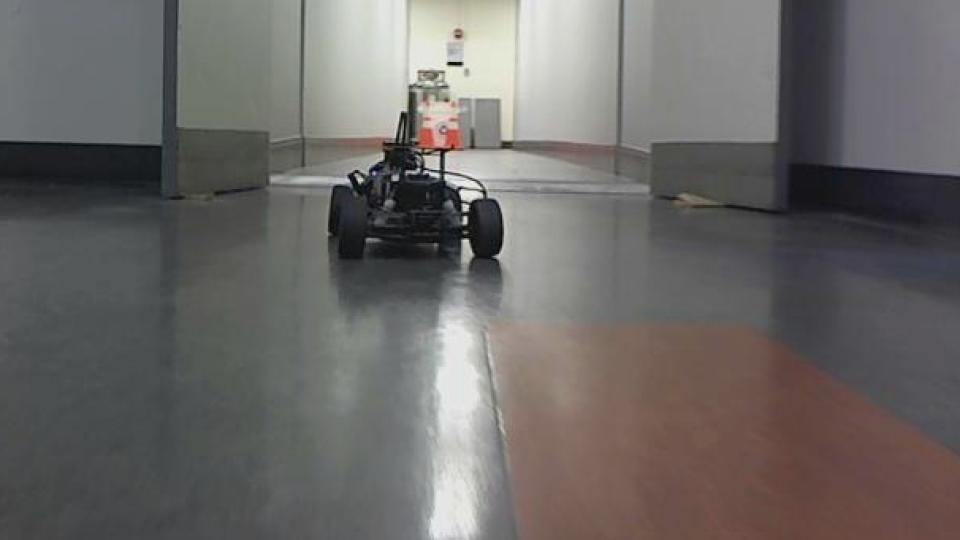car: (324, 110, 508, 265)
